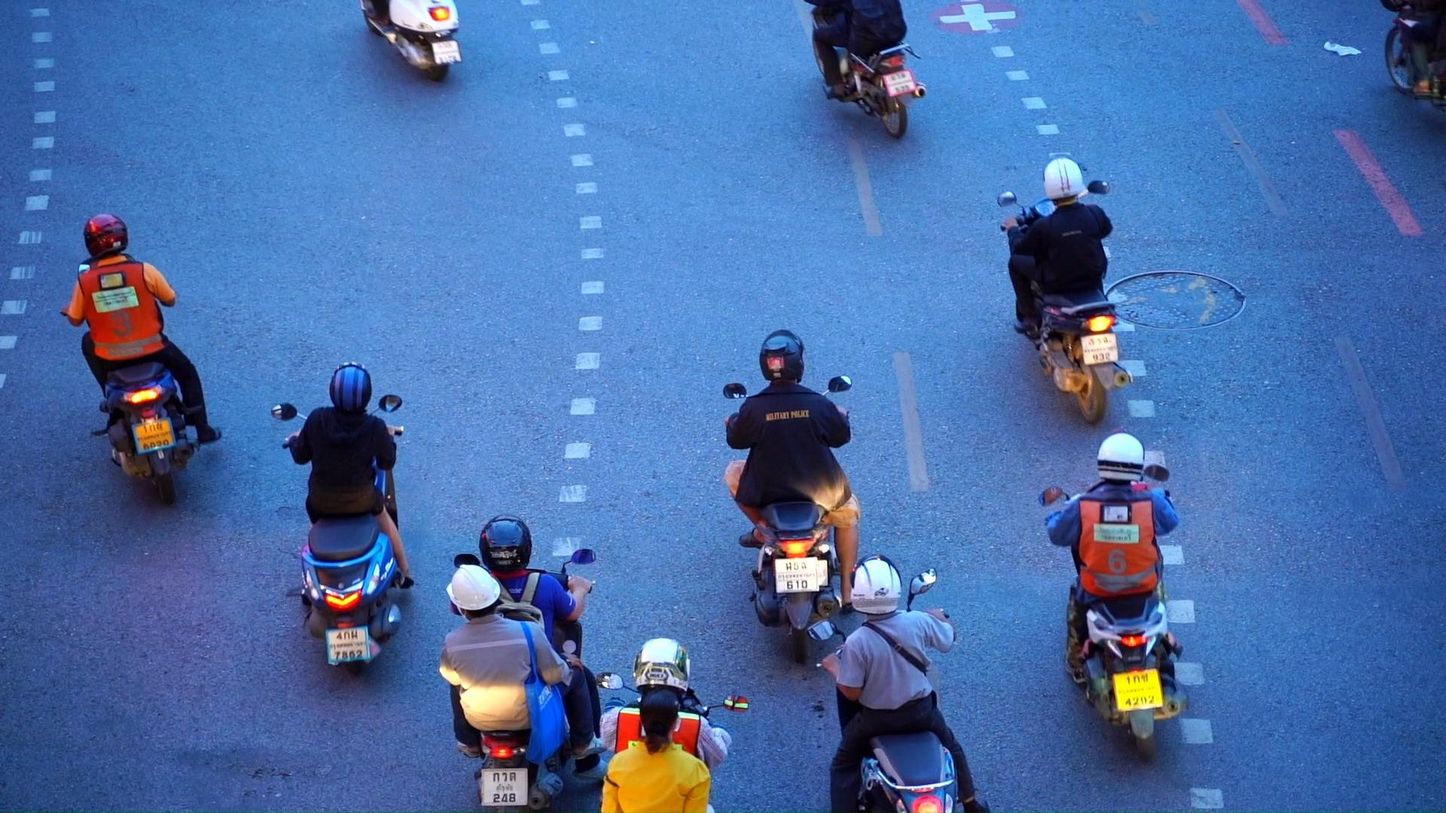driver: (438, 512, 608, 813), (1039, 428, 1188, 764), (59, 213, 223, 505), (808, 552, 990, 813), (722, 329, 862, 666), (270, 361, 414, 677), (997, 154, 1134, 426), (596, 636, 750, 813), (803, 0, 928, 140), (360, 0, 463, 82), (1380, 0, 1446, 115)
helmet: (633, 636, 692, 701), (849, 552, 902, 616), (478, 513, 532, 574), (447, 564, 501, 620), (1097, 428, 1146, 485), (759, 329, 807, 385), (329, 361, 372, 414), (82, 213, 129, 260), (1043, 154, 1083, 206)
no-helmet: (639, 687, 683, 756)
